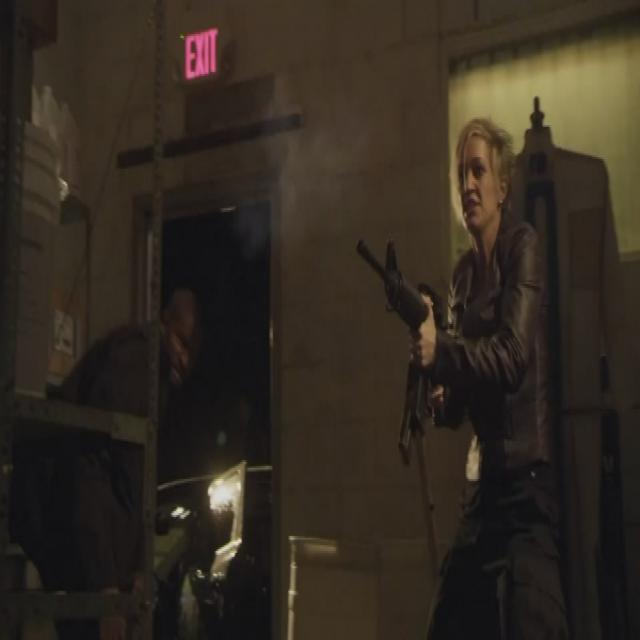rifle: (350, 234, 467, 453)
